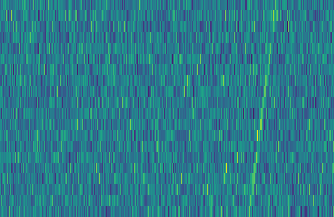signal: (108, 0, 123, 217)
